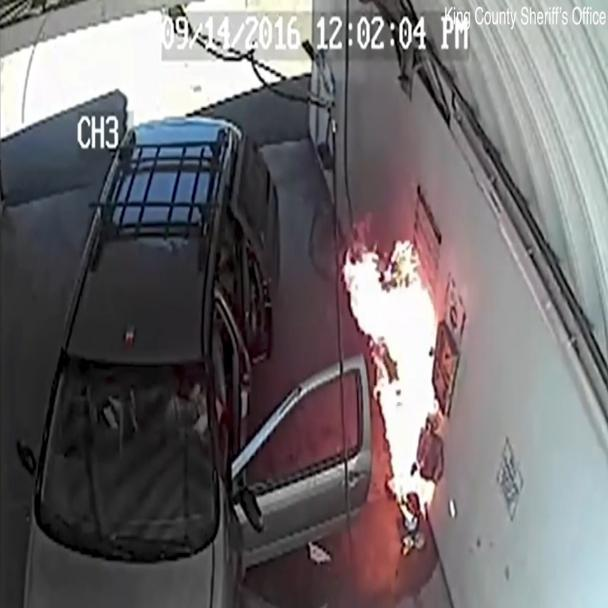Fire: (320, 193, 501, 608)
